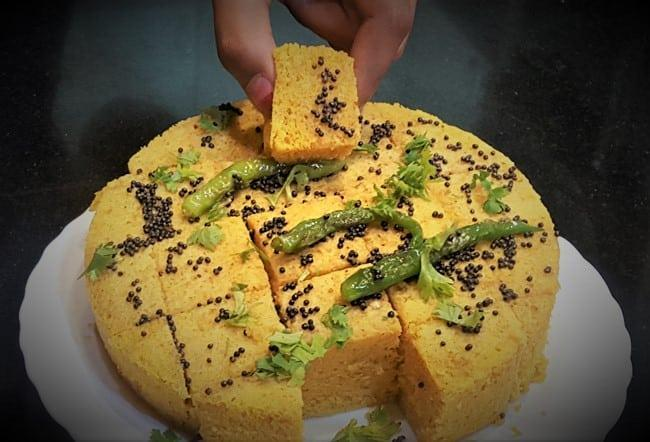dhokla: (91, 97, 558, 442), (266, 41, 365, 165)
